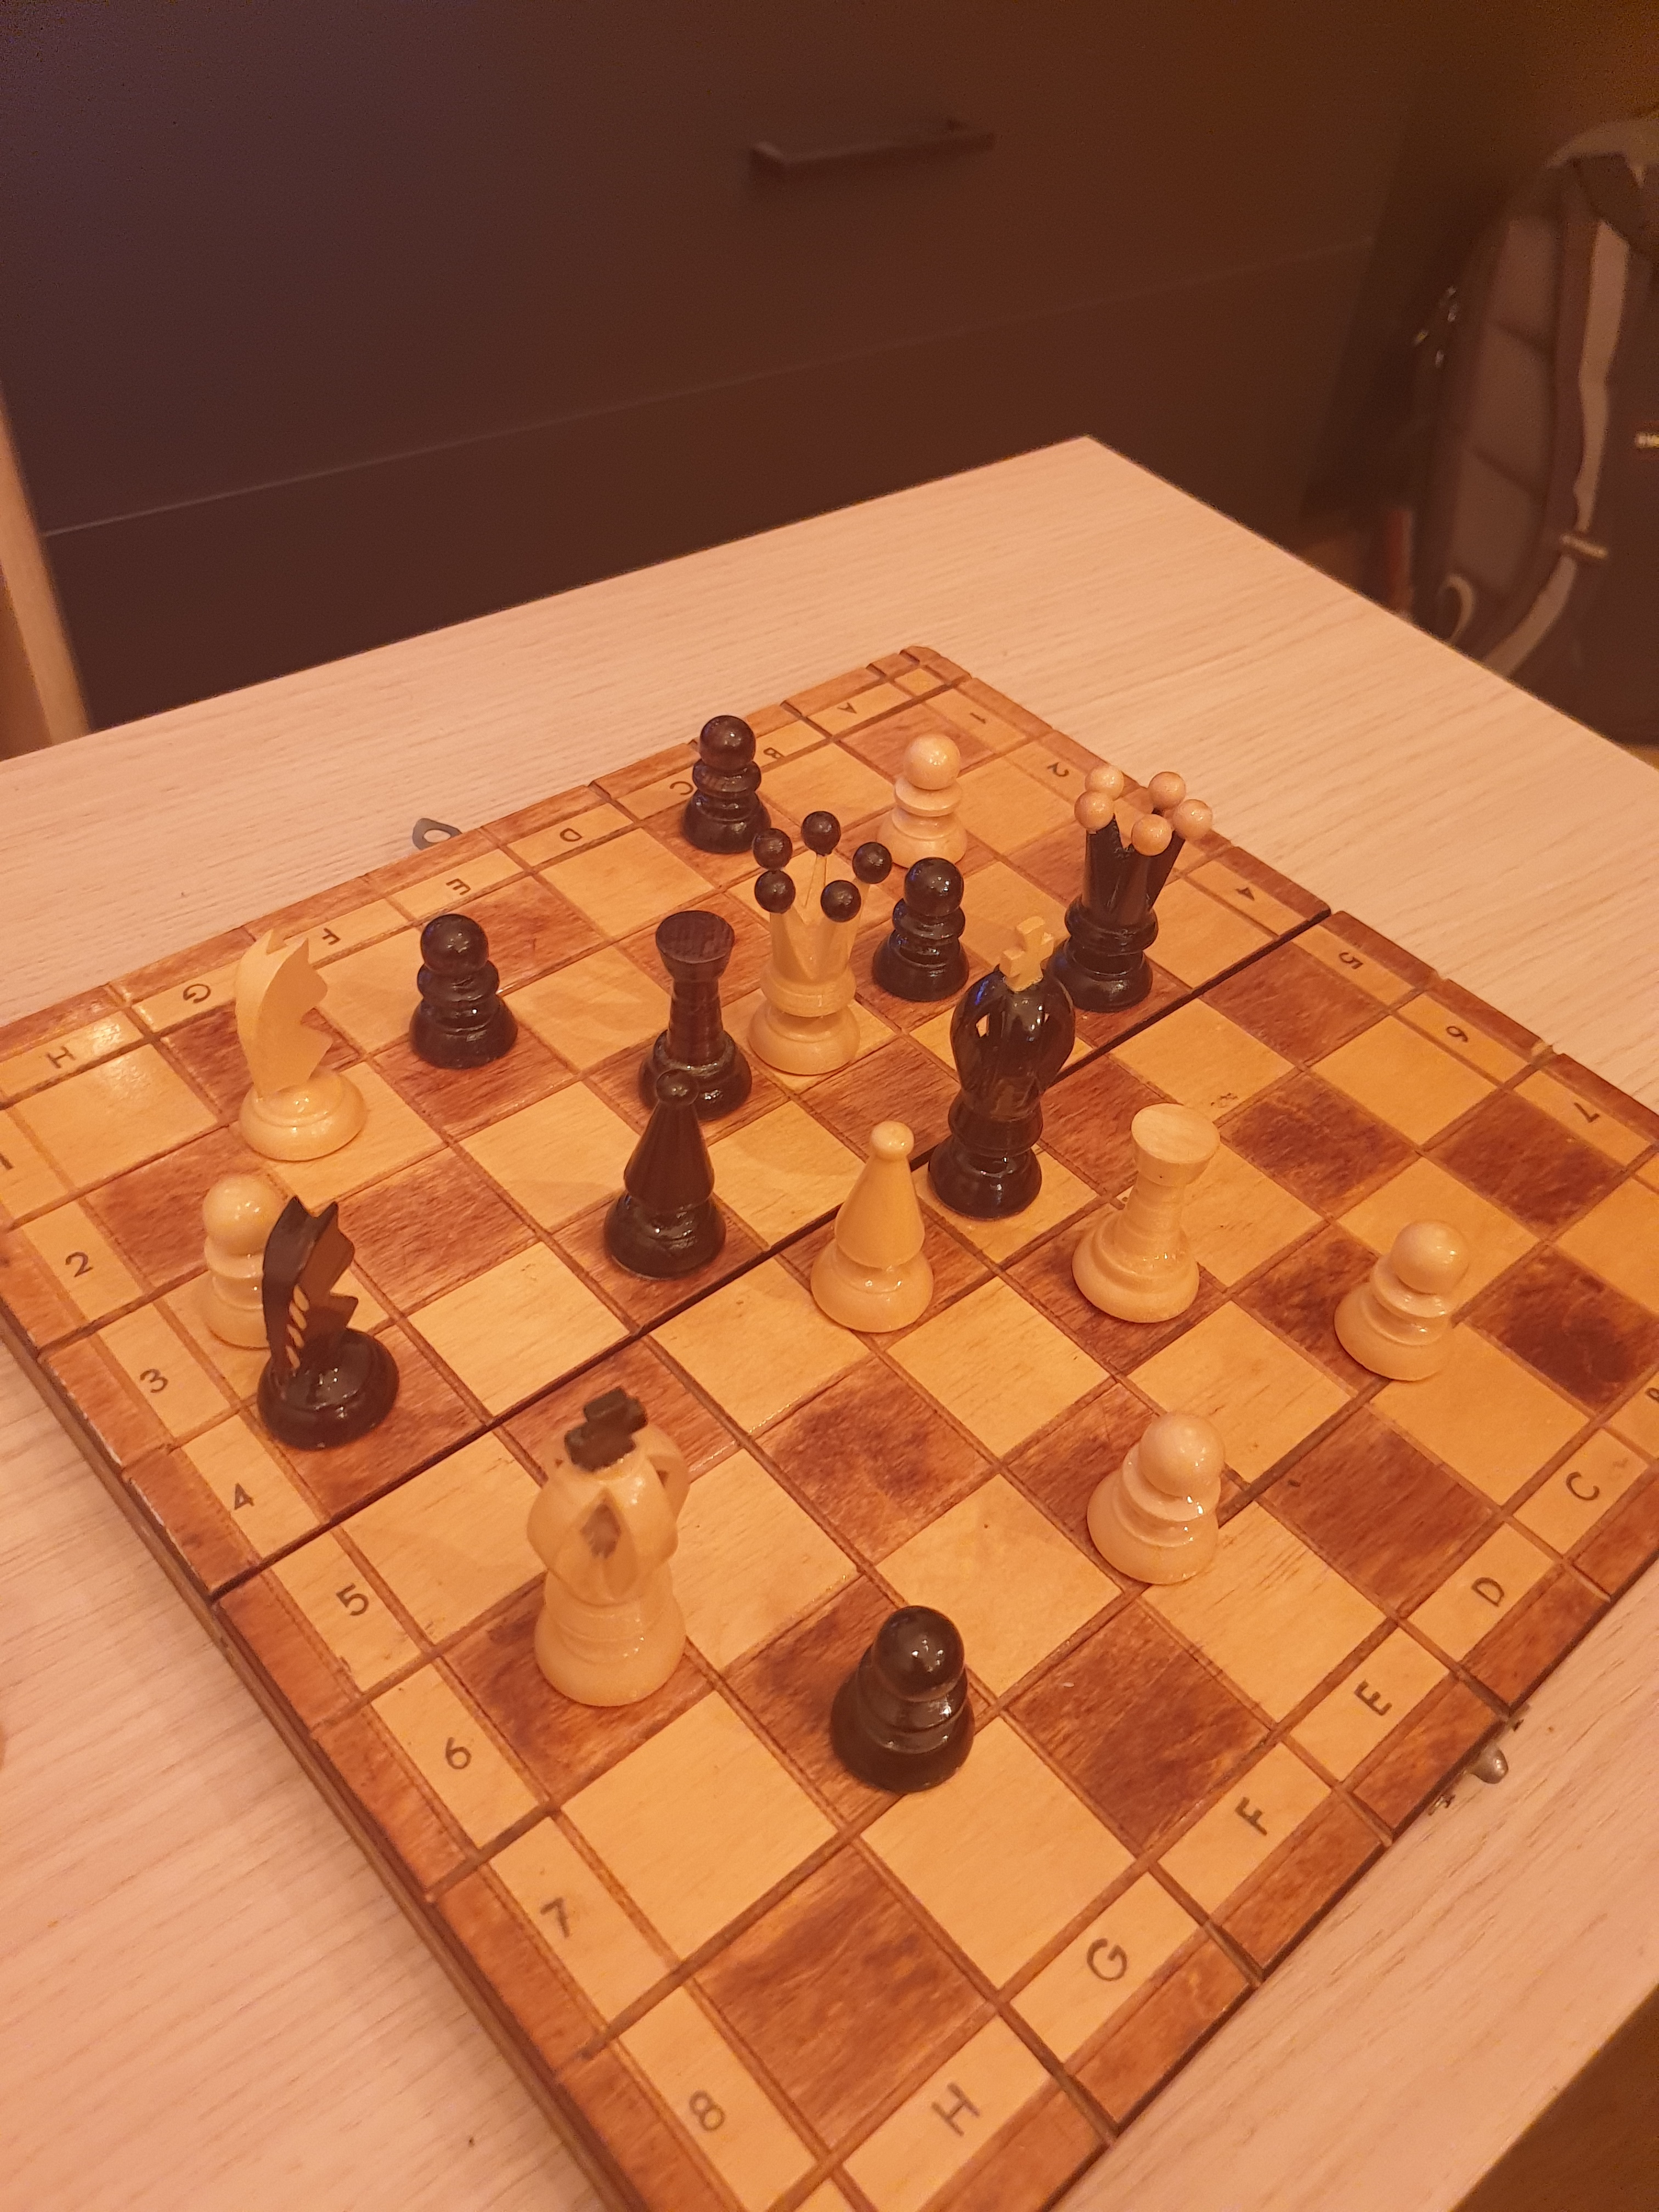bbishop: (592, 1050, 744, 1310)
bking: (906, 897, 1089, 1228)
bknight: (235, 1184, 425, 1460)
bpawn: (817, 1581, 993, 1804), (390, 902, 528, 1078), (864, 843, 978, 1012), (671, 702, 779, 864)
bqueen: (1032, 744, 1220, 1024)
brook: (626, 897, 762, 1130)
wbishop: (800, 1097, 960, 1350)
wking: (507, 1366, 711, 1731)
wknight: (218, 916, 387, 1188)
wpawn: (1077, 1397, 1239, 1601), (1326, 1197, 1471, 1392), (186, 1162, 314, 1366), (863, 719, 995, 892)
wqueen: (728, 799, 904, 1090)
wrook: (1065, 1073, 1239, 1350)
